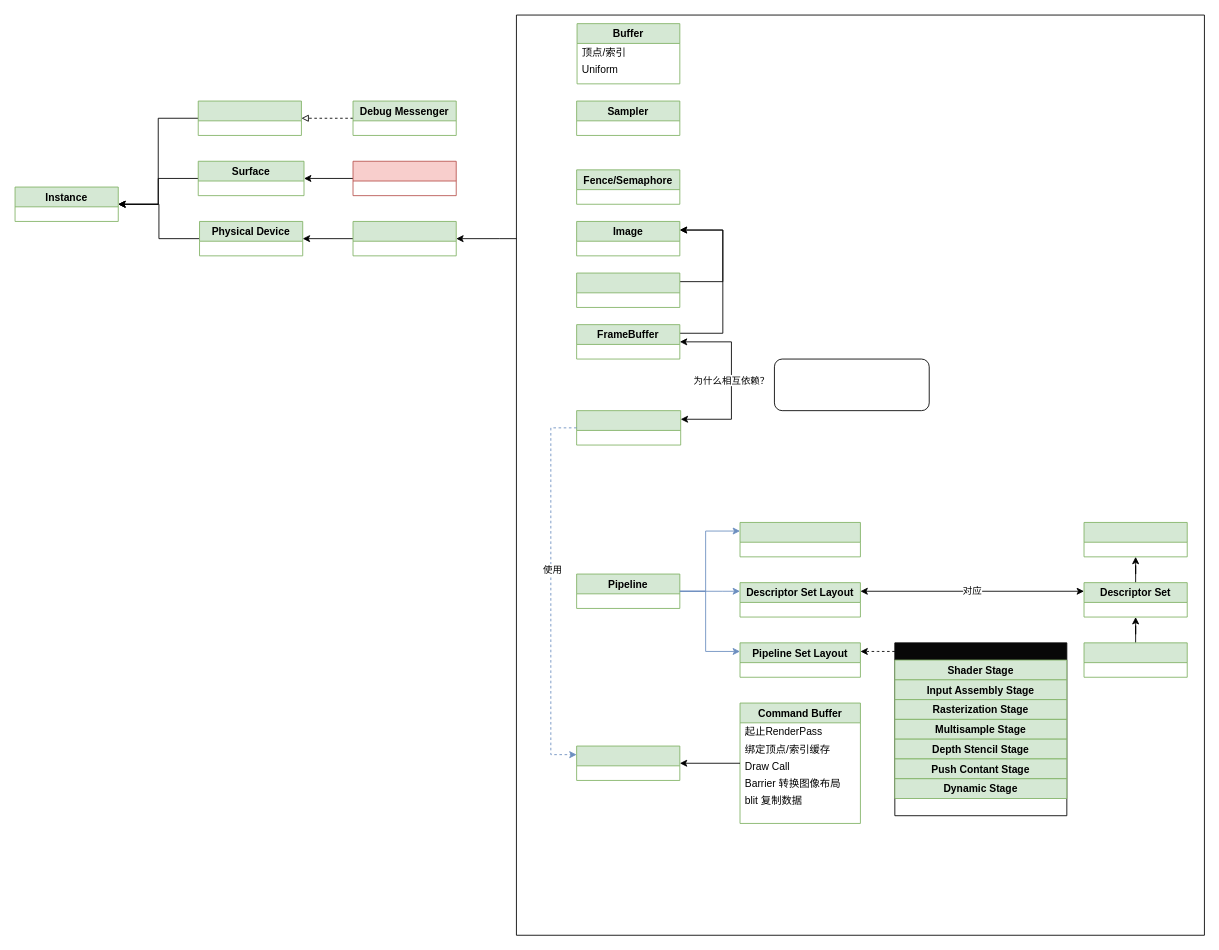
Some shapes in this 1219 by 950 pixel diagram are drawn without their labels. Here are the shapes that lost their labels. From the top down, the box of each, then its label:
(197, 100, 301, 135): Validation Layer
(352, 160, 456, 196): Window
(352, 221, 456, 256): Device
(576, 272, 680, 307): Swapchain
(774, 358, 929, 411): Render Pass在begin时需指定FrameBuffer FrameBuffer在创建时需指定Render Pass
(576, 410, 681, 445): Render Pass
(739, 522, 860, 557): Shader
(1083, 522, 1187, 557): Descriptor Pool
(894, 642, 1066, 660): Stages
(1083, 642, 1187, 677): *Descriptor Write
(576, 745, 680, 780): Command Pool
